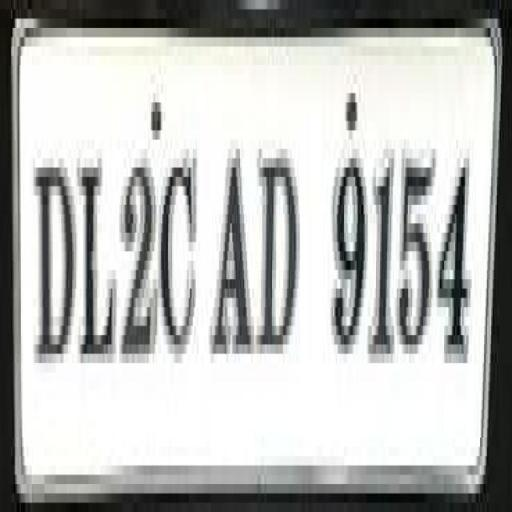number plate: (25, 0, 504, 512)
